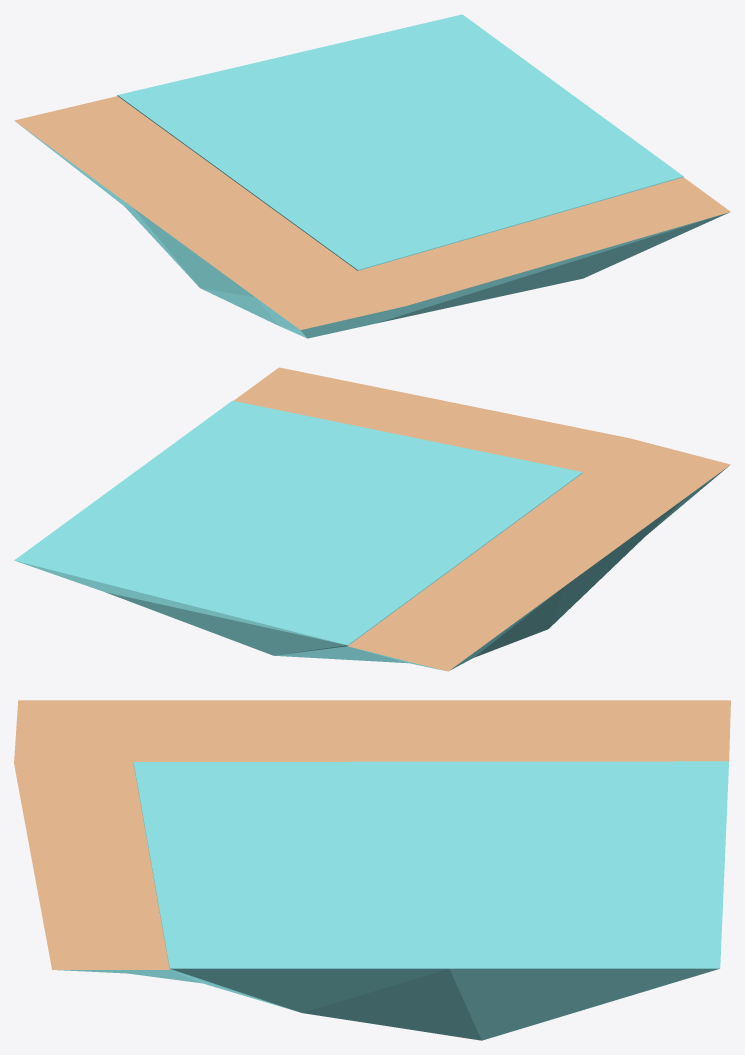
3 views of the same model, one above another, from view 1: azimuth 30°, elevation 25°; view 2: azimuth 150°, elevation 25°; view 3: azimuth 270°, elevation 25° (orthographic). The views are drawn at different scales.
Visible parts, largest first — view 1: Object003; view 2: Object003; view 3: Object003.
Part boxes in pixels (x1,y1,x2,y2): Object003: (14,14,730,338); Object003: (14,367,730,671); Object003: (14,700,730,1040).
Size of the model in its own units: 224 by 35.47 by 252.
